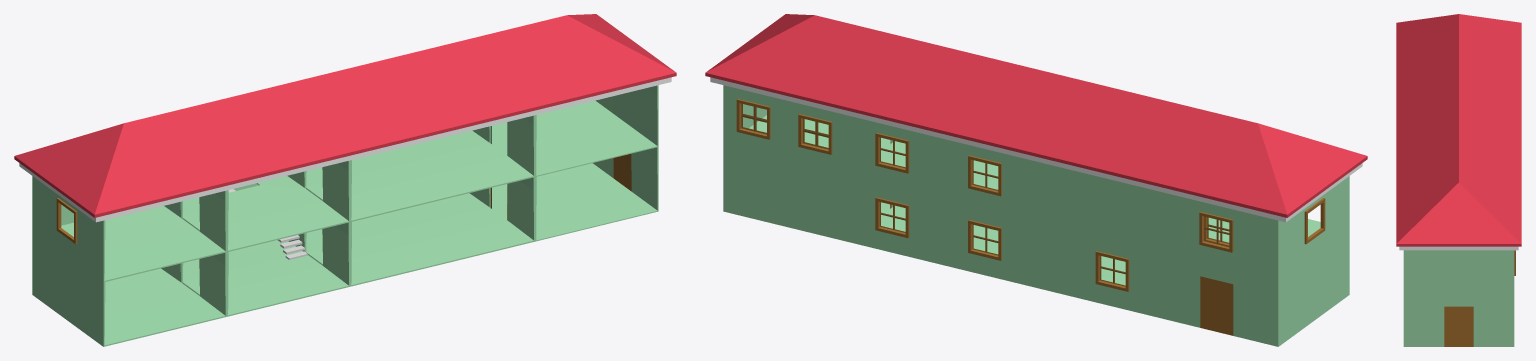
Rendered from rooms1.fbx.
The picture shows the model from 3 angles, left to right: view 1: azimuth 30°, elevation 25°; view 2: azimuth 150°, elevation 25°; view 3: azimuth 270°, elevation 25°; orthographic projection. The views are drawn at different scales.
Parts seen in each view (by area): view 1: Plane, building_016; view 2: Plane, building_016; view 3: building_016, Plane.
Part boxes in pixels (left/top/right/bottom): Plane: left=32, top=85, right=658, bottom=346; building_016: left=14, top=14, right=676, bottom=222; Plane: left=723, top=85, right=1349, bottom=346; building_016: left=705, top=14, right=1367, bottom=222; building_016: left=1396, top=14, right=1521, bottom=250; Plane: left=1403, top=250, right=1515, bottom=346.
Bounding box in the file's own units: 9436 × 2850 × 2256.
